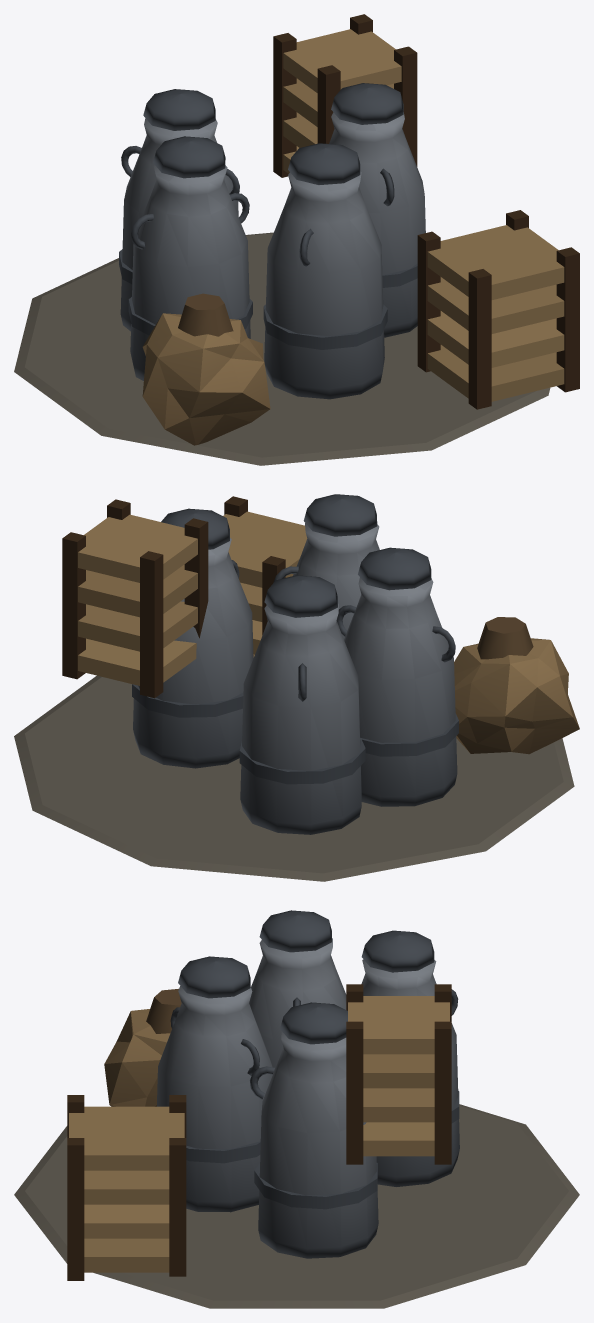
Rendered from milk-churns-crates.glb.
3 views of the same model, one above another, from view 1: azimuth 30°, elevation 25°; view 2: azimuth 150°, elevation 25°; view 3: azimuth 270°, elevation 25° (orthographic).
Visible parts, largest first — view 1: milk_churns_crates; view 2: milk_churns_crates; view 3: milk_churns_crates.
Boxes of the visible parts, x1=… form: milk_churns_crates: x1=14, y1=14, x2=579, y2=465; milk_churns_crates: x1=14, y1=494, x2=579, y2=881; milk_churns_crates: x1=14, y1=910, x2=579, y2=1308.
Size of the model in its own units: 1.58 by 0.7803 by 1.66.
